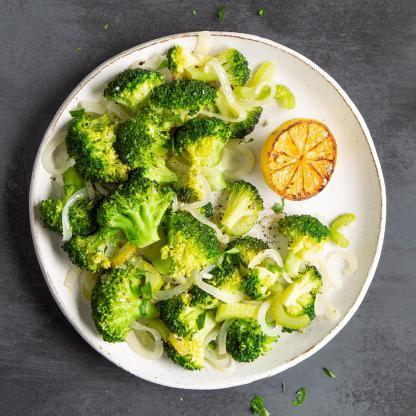broccoli: (40, 47, 335, 374)
